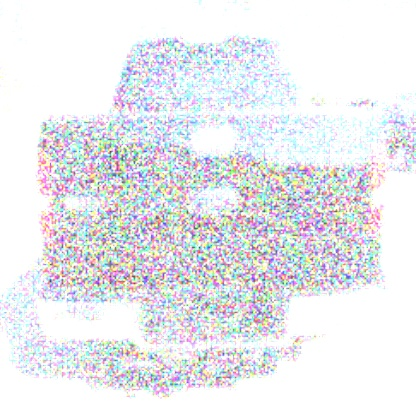Vehicle: (31, 32, 392, 396)
